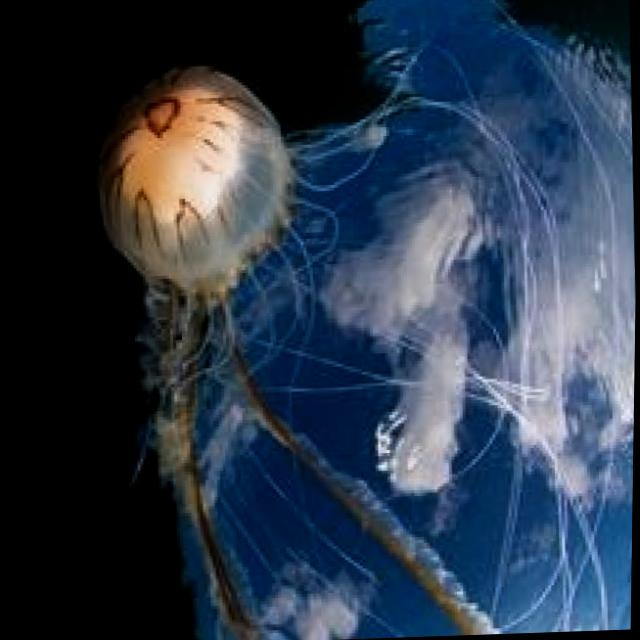Jellyfish: (87, 49, 604, 640)
